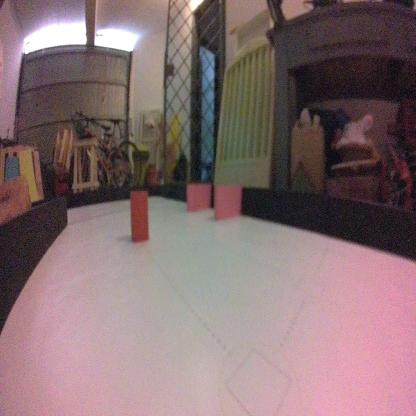magenta: (212, 185, 241, 221), (186, 178, 210, 212)
red: (128, 188, 149, 245)
